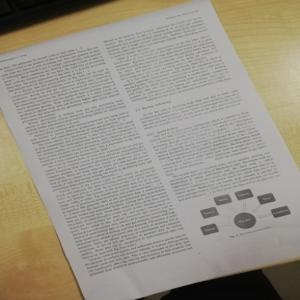diagram: (199, 184, 291, 237)
text: (2, 43, 193, 279), (104, 20, 273, 177), (171, 152, 281, 202)
